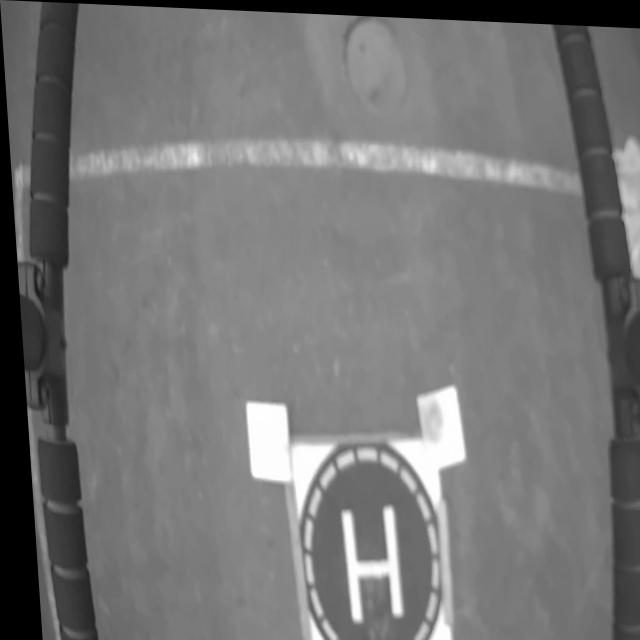Helipad: (333, 499, 397, 620)
